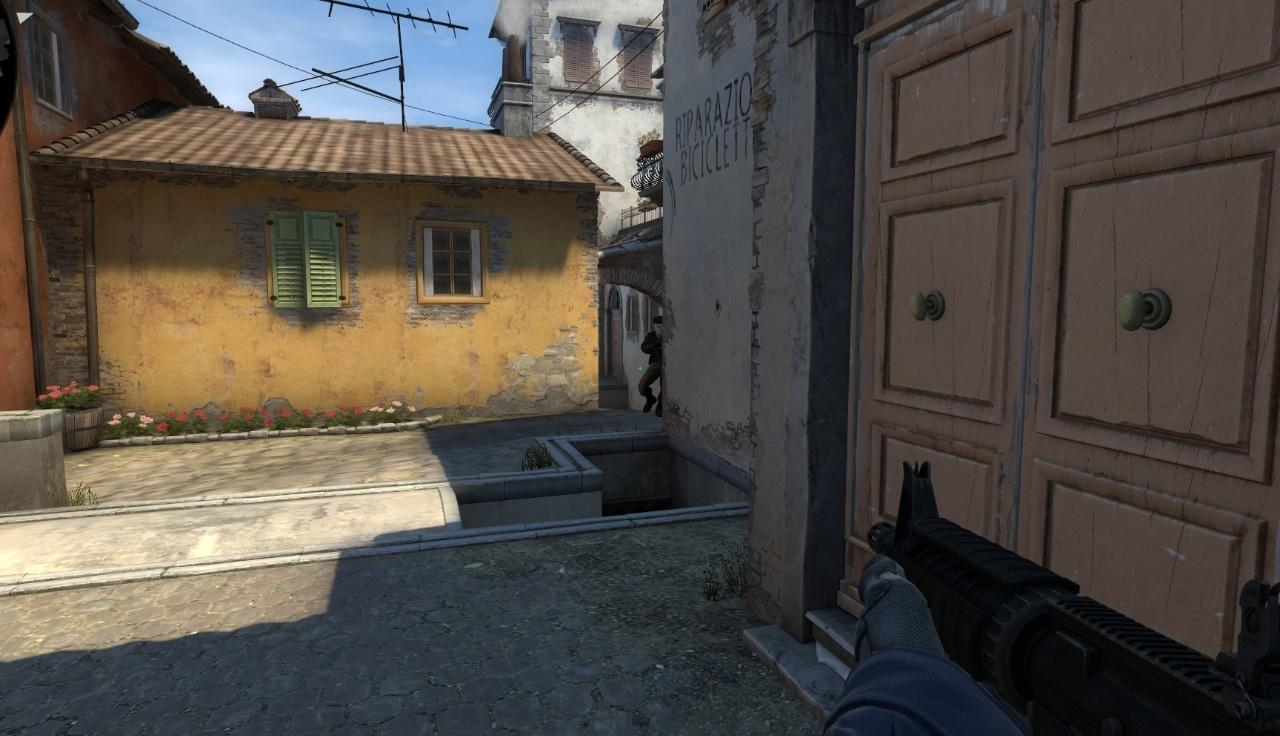rifle: (854, 458, 1280, 731)
tt: (639, 313, 664, 417)
tthead: (652, 316, 663, 335)
